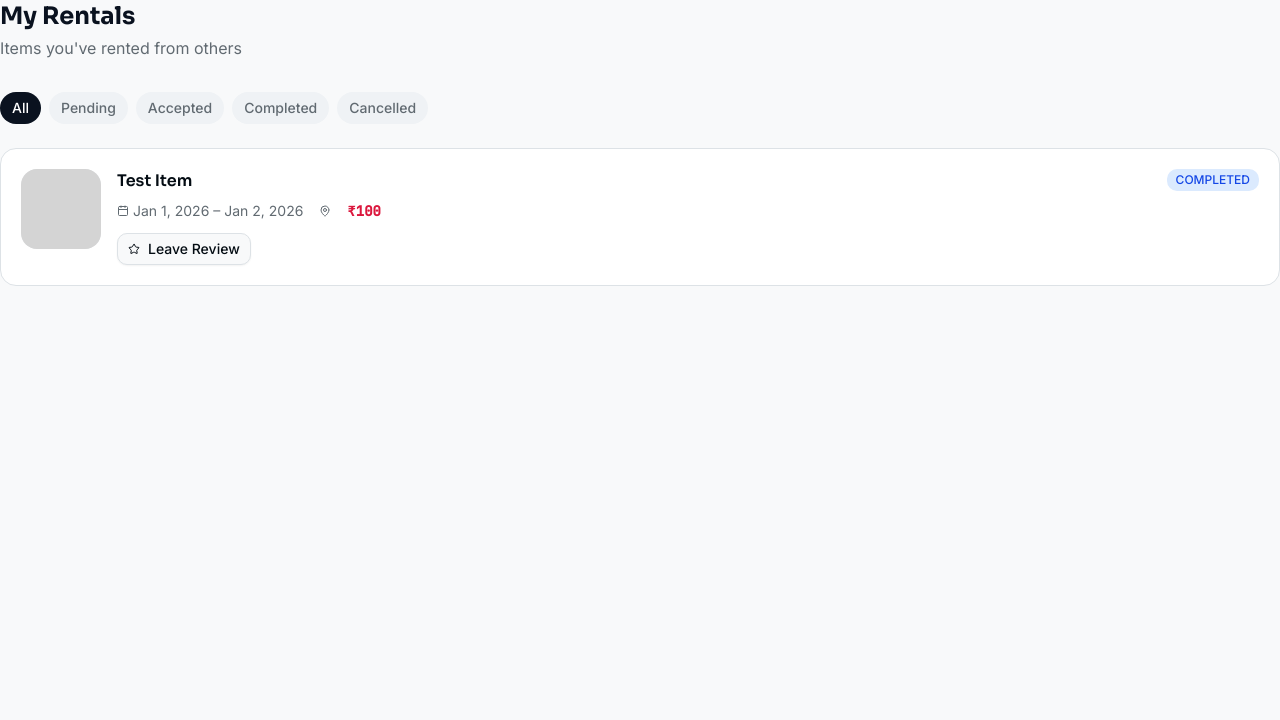
Dashboard Component Authorization Errors › MyRentals handles duplicate review error gracefully
Later steps or results of the test are not shown.
Note: Click leave review
Click the button "Leave Review" at (184, 249), box [117,233,251,265]
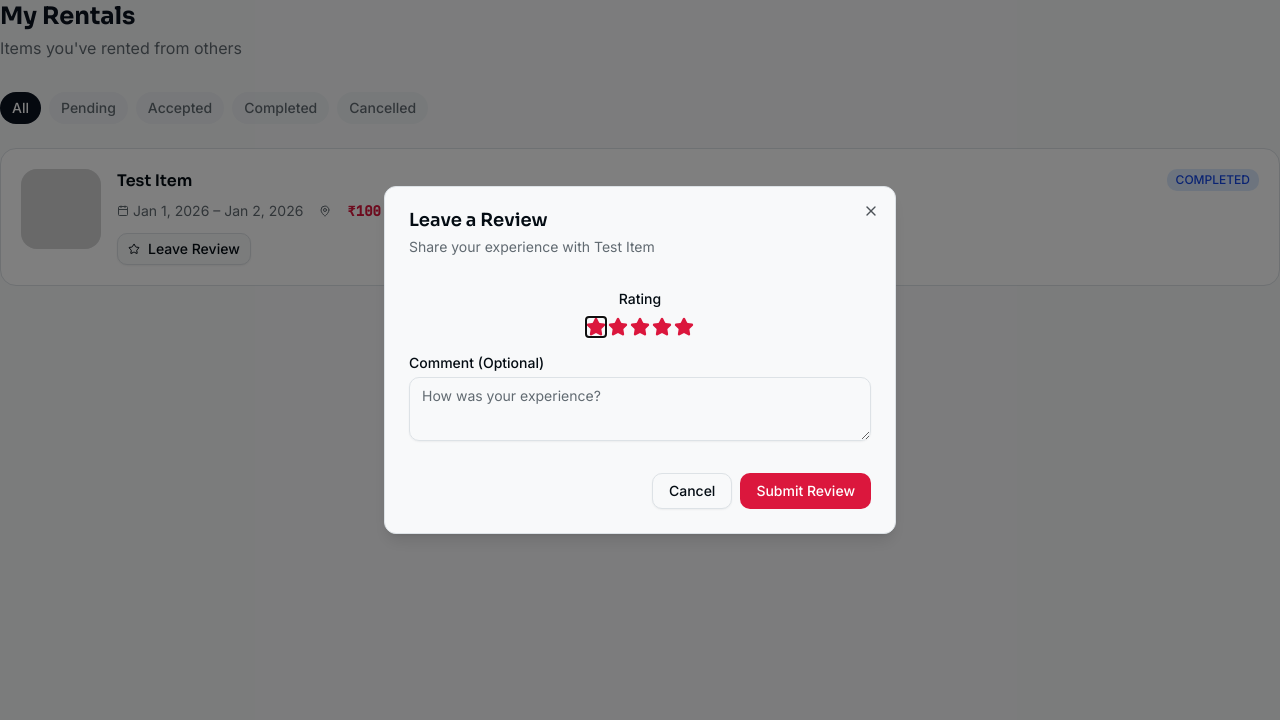
Expected: the button "Submit Review" is shown, [740,473,871,509]
